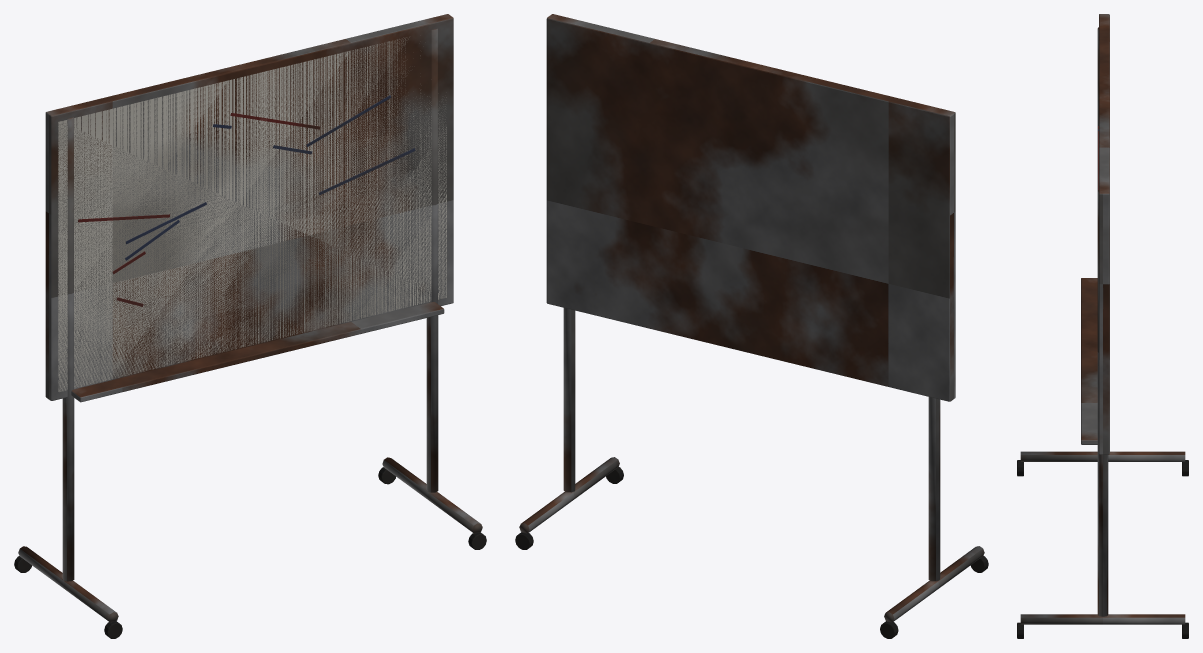
File: O02_whiteboard.glb
3 renders of one model, left to right at view 1: azimuth 30°, elevation 25°; view 2: azimuth 150°, elevation 25°; view 3: azimuth 270°, elevation 25°, orthographic. The views are drawn at different scales.
Parts seen in each view (by area): view 1: O02_whiteboard; view 2: O02_whiteboard; view 3: O02_whiteboard.
Part boxes in pixels (x1,y1,x2,y2): O02_whiteboard: (14, 14, 486, 638); O02_whiteboard: (515, 14, 988, 638); O02_whiteboard: (1017, 14, 1188, 638).
Bounding box in the file's own units: 1.28 × 1.5 × 0.5152.
Materials: 5 (5 with a texture image).
